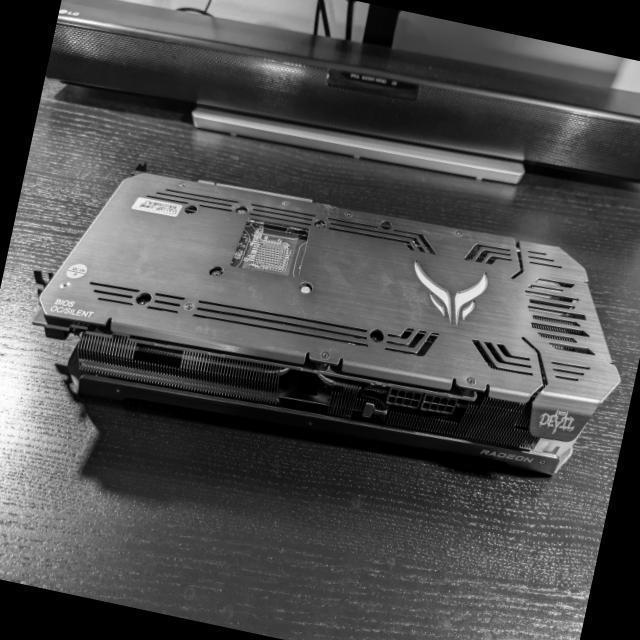GPU: (32, 163, 622, 480)
